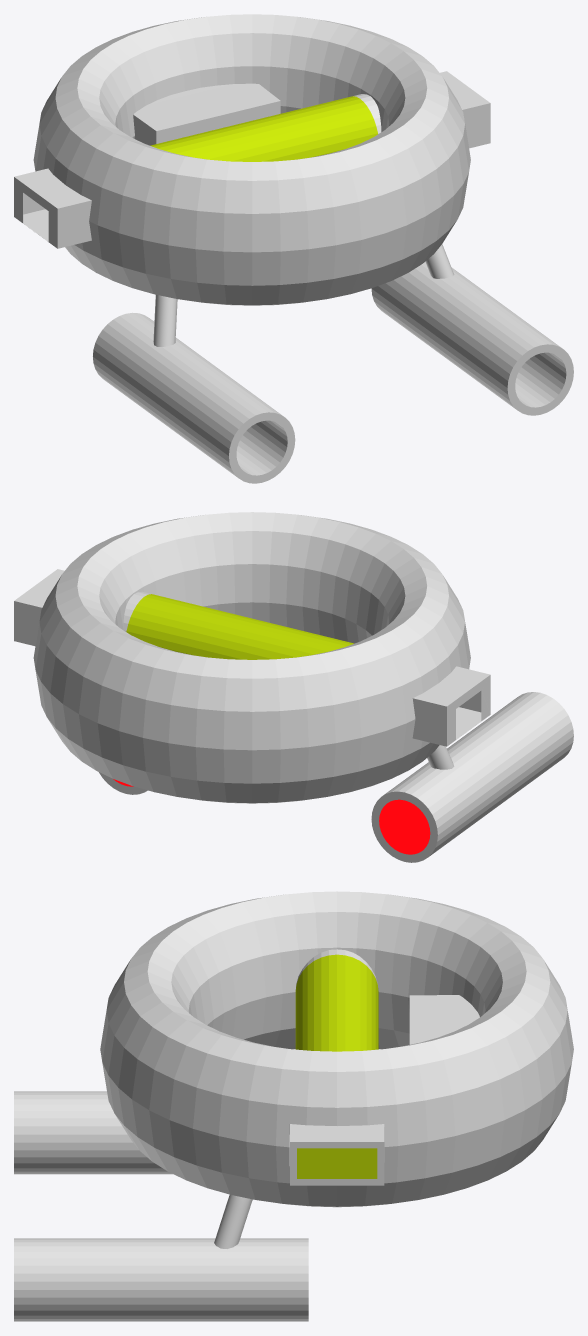
The model's file is theship.fbx.
3 renders of one model, top to bottom at view 1: azimuth 30°, elevation 25°; view 2: azimuth 150°, elevation 25°; view 3: azimuth 270°, elevation 25°, orthographic. The views are drawn at different scales.
Visible parts, largest first — view 1: Torus, Cylinder.001, Cylinder, Cube, Airlock, Captain Cabin, NurbsPath; view 2: Torus, Cylinder.001, Cylinder, Airlock, Captain Cabin, NurbsPath; view 3: Torus, Cylinder.001, Cylinder, Captain Cabin, Cube, NurbsPath.
Part boxes in pixels (<box>): Torus: <box>33,14,470,305</box>; Cylinder.001: <box>93,262,573,483</box>; Cylinder: <box>150,94,381,161</box>; Cube: <box>133,83,280,145</box>; Airlock: <box>14,168,91,248</box>; Captain Cabin: <box>440,71,490,148</box>; NurbsPath: <box>153,244,454,346</box>; Torus: <box>33,512,470,803</box>; Cylinder.001: <box>99,692,573,862</box>; Cylinder: <box>123,591,353,659</box>; Airlock: <box>412,666,490,746</box>; Captain Cabin: <box>14,569,64,645</box>; NurbsPath: <box>427,745,454,769</box>; Torus: <box>100,891,573,1207</box>; Cylinder.001: <box>14,1091,308,1321</box>; Cylinder: <box>295,949,378,1051</box>; Captain Cabin: <box>290,1124,384,1185</box>; Cube: <box>409,995,479,1044</box>; NurbsPath: <box>214,1194,252,1248</box>.
Bounding box in the file's own units: 4049 × 2248 × 4187.
